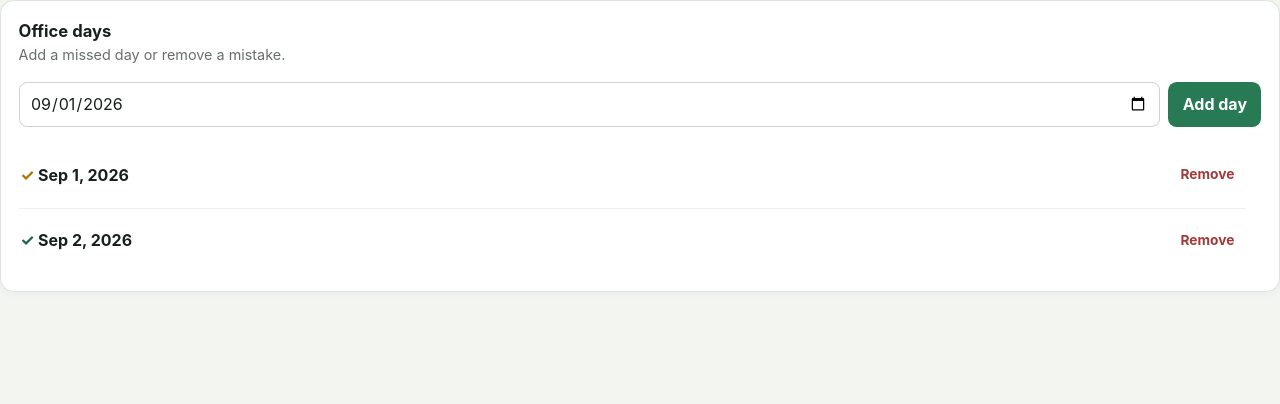
Scenario: distinguishes attendance sources and retains a failed removal for retry
The width and height of the screenshot is (1280, 404).
Expected: the element titled "Manually added" is shown, left=20, top=164, right=129, bottom=187
Expected: the element titled "Automatically added" is shown, left=20, top=229, right=132, bottom=252
Click the button with aria-label "Remove office day": (1207, 175) left=1170, top=153, right=1245, bottom=197
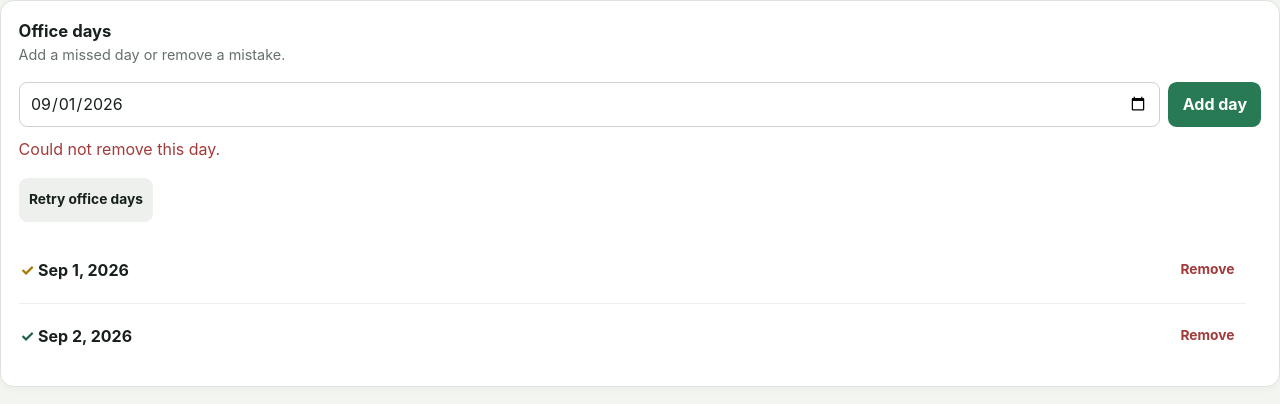
Expected: the number of buttons named "Remove office day" is 2, left=1170, top=248, right=1245, bottom=292; left=1170, top=314, right=1245, bottom=358
Expected: the message reads "Could not remove this day.", left=19, top=139, right=220, bottom=159
